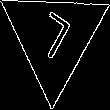L_SW: (30, 9, 78, 68)
